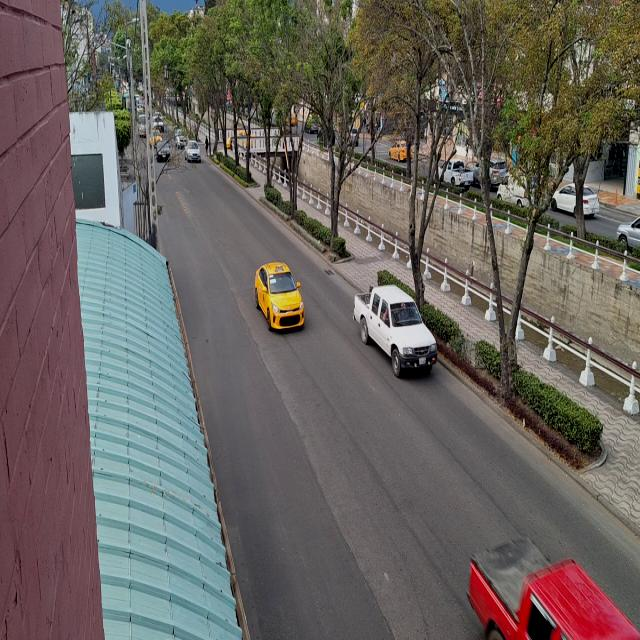CMT: (472, 544, 640, 638), (356, 287, 440, 378)
SED: (256, 264, 307, 332), (185, 140, 204, 170)
